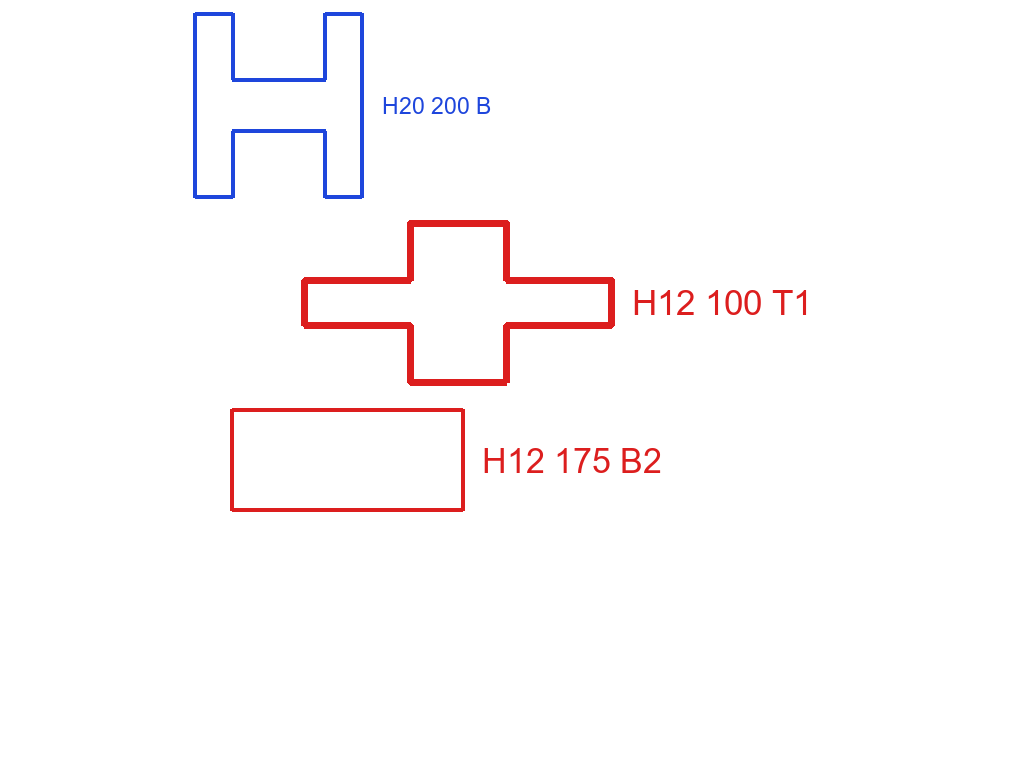shape: (299, 218, 617, 388), (192, 10, 366, 201), (228, 405, 466, 515)
text: (480, 446, 664, 475), (630, 288, 814, 317), (380, 95, 493, 116)
